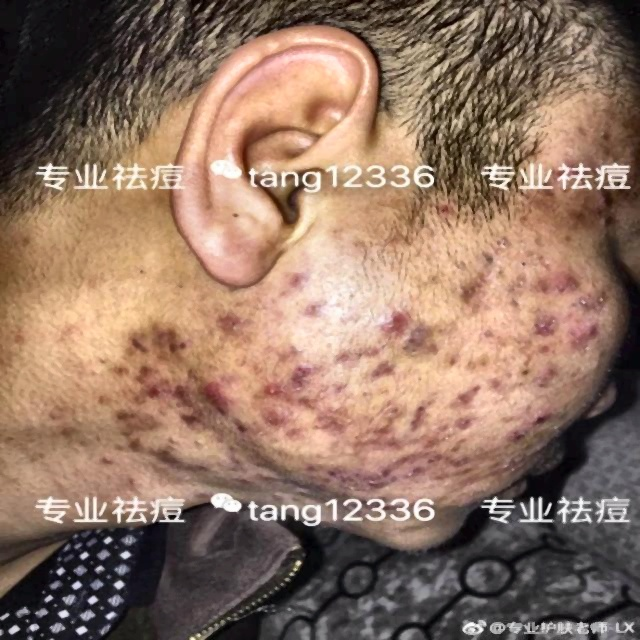nodule: (522, 259, 598, 300), (256, 391, 305, 425), (477, 421, 531, 451), (384, 440, 433, 473), (424, 442, 467, 476), (375, 304, 418, 338), (207, 368, 240, 411), (530, 305, 566, 344), (275, 270, 316, 304), (358, 466, 400, 499), (532, 356, 572, 390), (248, 367, 288, 399), (449, 481, 499, 506), (482, 364, 515, 396), (300, 384, 334, 415), (331, 459, 362, 493), (496, 452, 535, 479), (117, 470, 153, 499), (566, 323, 602, 351), (125, 368, 162, 395), (293, 297, 334, 321), (328, 347, 366, 372), (568, 292, 615, 312), (439, 385, 476, 410), (220, 442, 253, 470), (190, 455, 224, 481), (123, 328, 152, 358), (366, 350, 392, 383), (185, 429, 218, 455), (282, 421, 315, 446), (230, 412, 260, 439), (209, 312, 240, 338), (252, 463, 284, 488), (226, 471, 258, 496), (292, 351, 316, 383), (324, 408, 354, 433), (396, 403, 426, 428), (526, 401, 556, 426), (458, 279, 484, 307), (102, 405, 136, 426), (153, 440, 174, 474), (447, 418, 479, 440), (170, 332, 198, 357), (136, 412, 165, 435), (356, 408, 382, 432), (300, 459, 331, 479), (136, 356, 164, 377), (118, 435, 146, 456), (95, 449, 127, 467), (102, 356, 128, 377), (170, 406, 197, 425), (403, 330, 426, 352), (456, 342, 481, 361), (162, 383, 190, 399), (151, 328, 180, 341)
